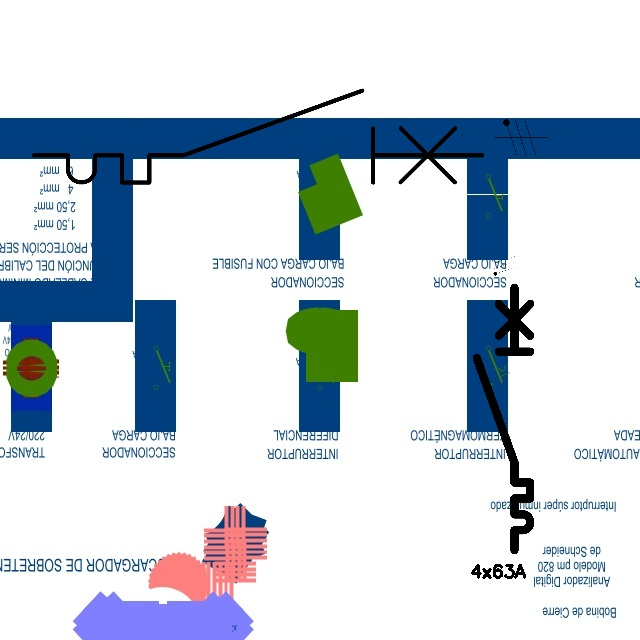interruptor_termomagnetico: (22, 79, 494, 194), (470, 281, 537, 556)
